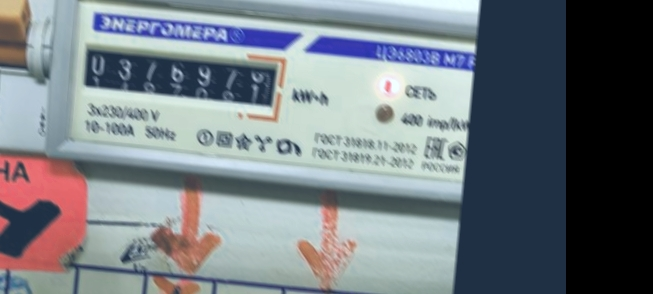0: (90, 53, 107, 77)
1: (249, 83, 260, 106)
3: (118, 59, 133, 81)
6: (170, 60, 187, 84)
7: (144, 59, 160, 83), (224, 66, 240, 90)
9: (197, 64, 213, 88)
screen: (71, 35, 291, 127)
